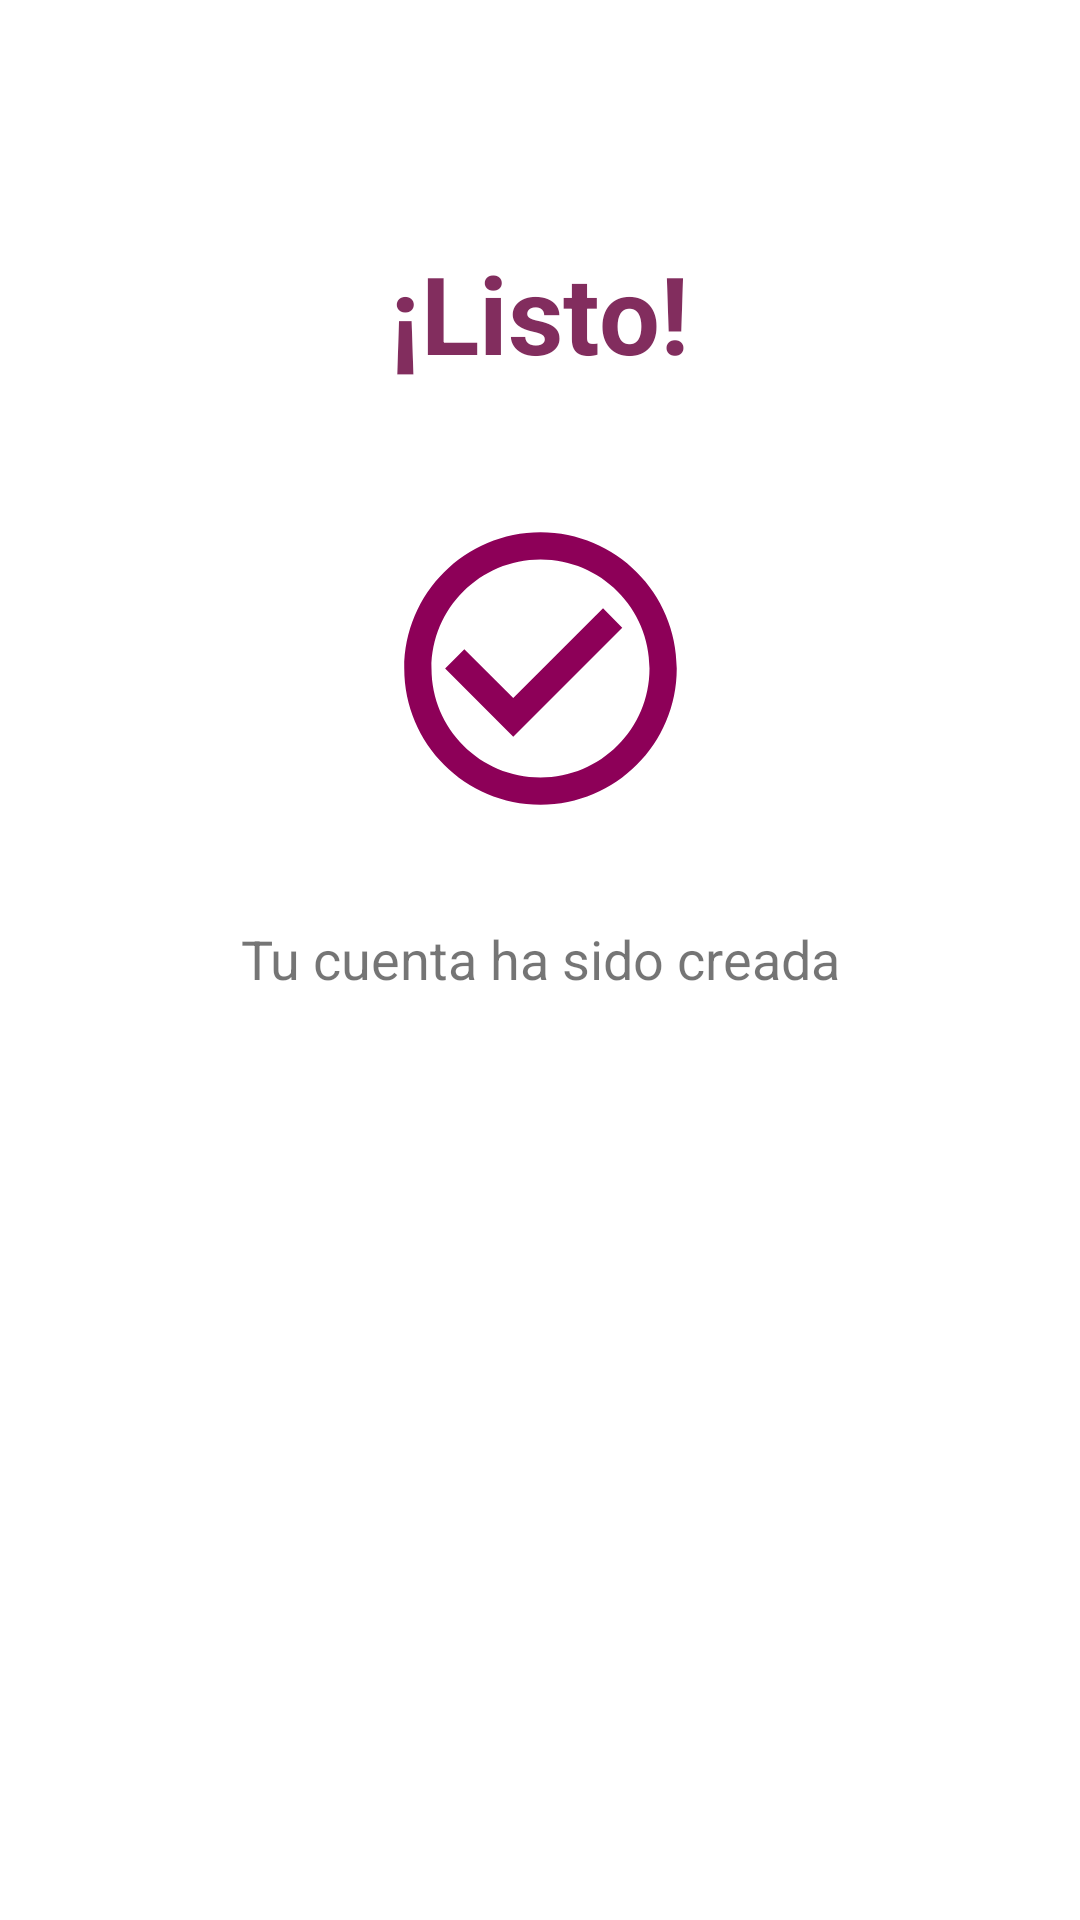

Screen size 1080x1920. Icon name, then its box in pixels as (x1, y1, x2, y2):
circle check: (404, 532, 677, 805)
